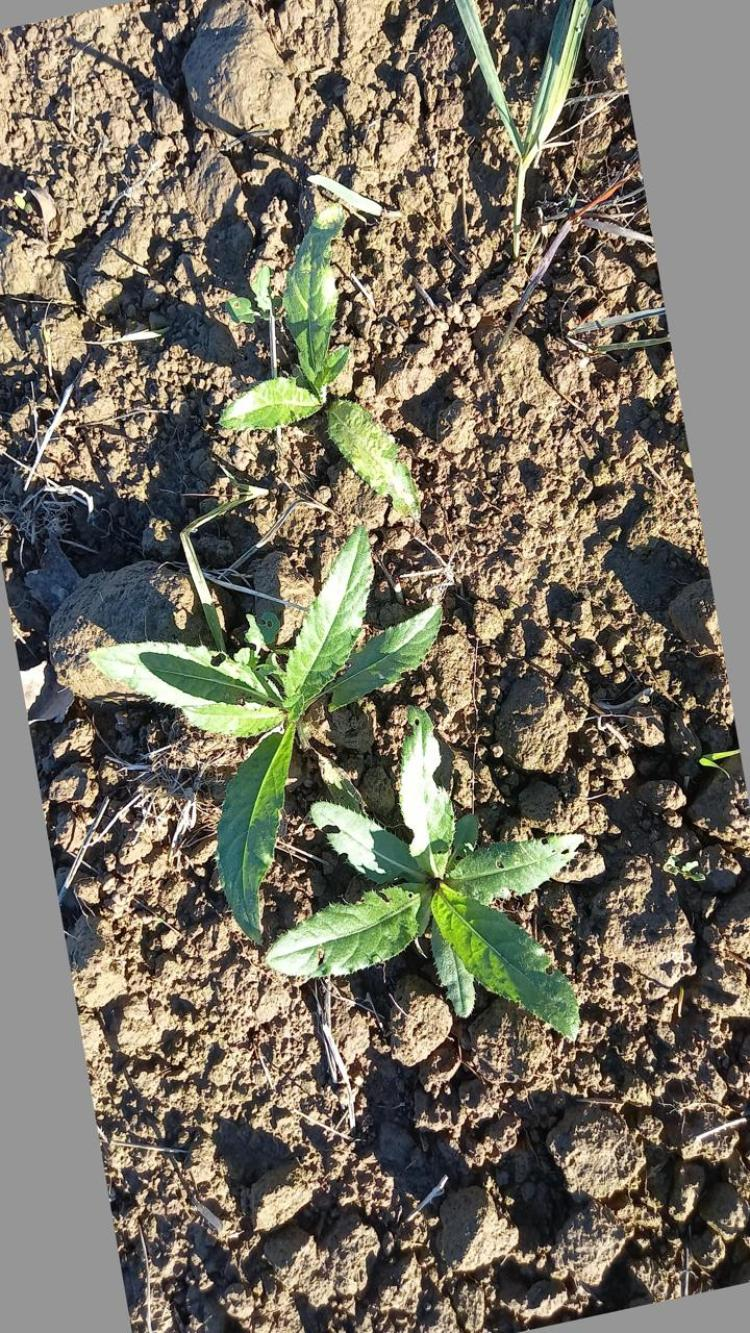osot: (90, 523, 454, 931), (265, 710, 600, 1058)
